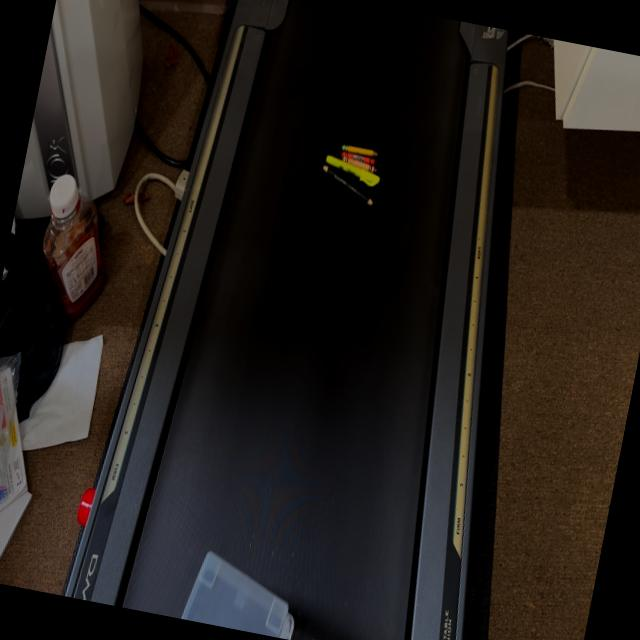Recycle: (178, 545, 306, 640)
Trash: (315, 133, 390, 215)
